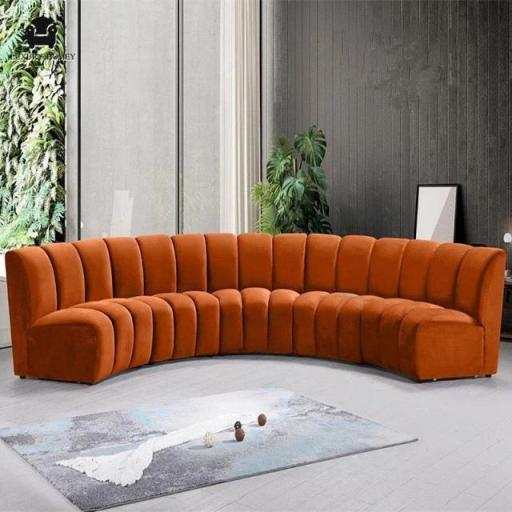sofa: (0, 198, 512, 423)
